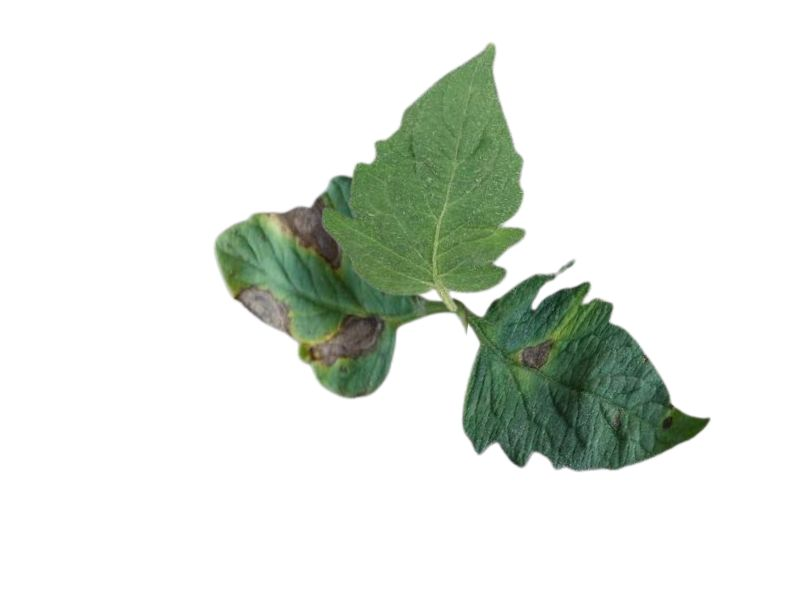Early_blight: (280, 195, 342, 270), (304, 311, 383, 365), (229, 286, 292, 340), (519, 335, 554, 372), (660, 414, 674, 431)
